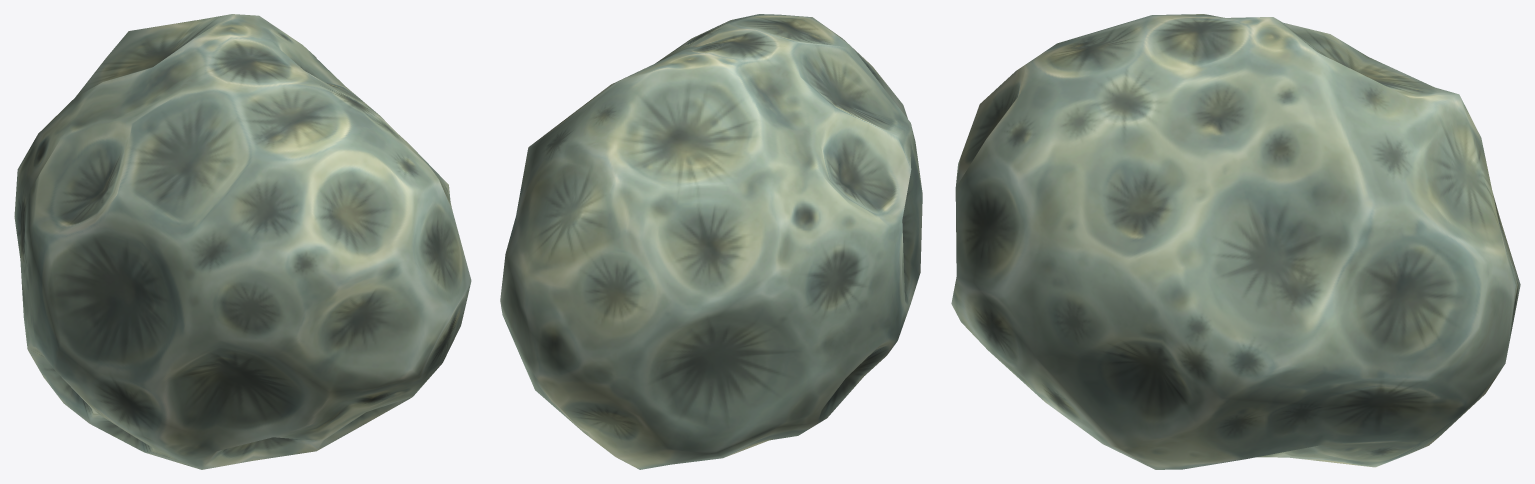
File: asteroid_1_0.fbx
The picture shows the model from 3 angles, left to right: view 1: azimuth 30°, elevation 25°; view 2: azimuth 150°, elevation 25°; view 3: azimuth 270°, elevation 25°; orthographic projection. The views are drawn at different scales.
Visible parts, largest first — view 1: A1_LOD0; view 2: A1_LOD0; view 3: A1_LOD0.
Part boxes in pixels (box(x1,y1,x2,y2)): A1_LOD0: box(14, 14, 471, 469); A1_LOD0: box(500, 14, 922, 469); A1_LOD0: box(951, 14, 1520, 469).
Size of the model in its own units: 0.7042 by 0.6913 by 0.8243.
